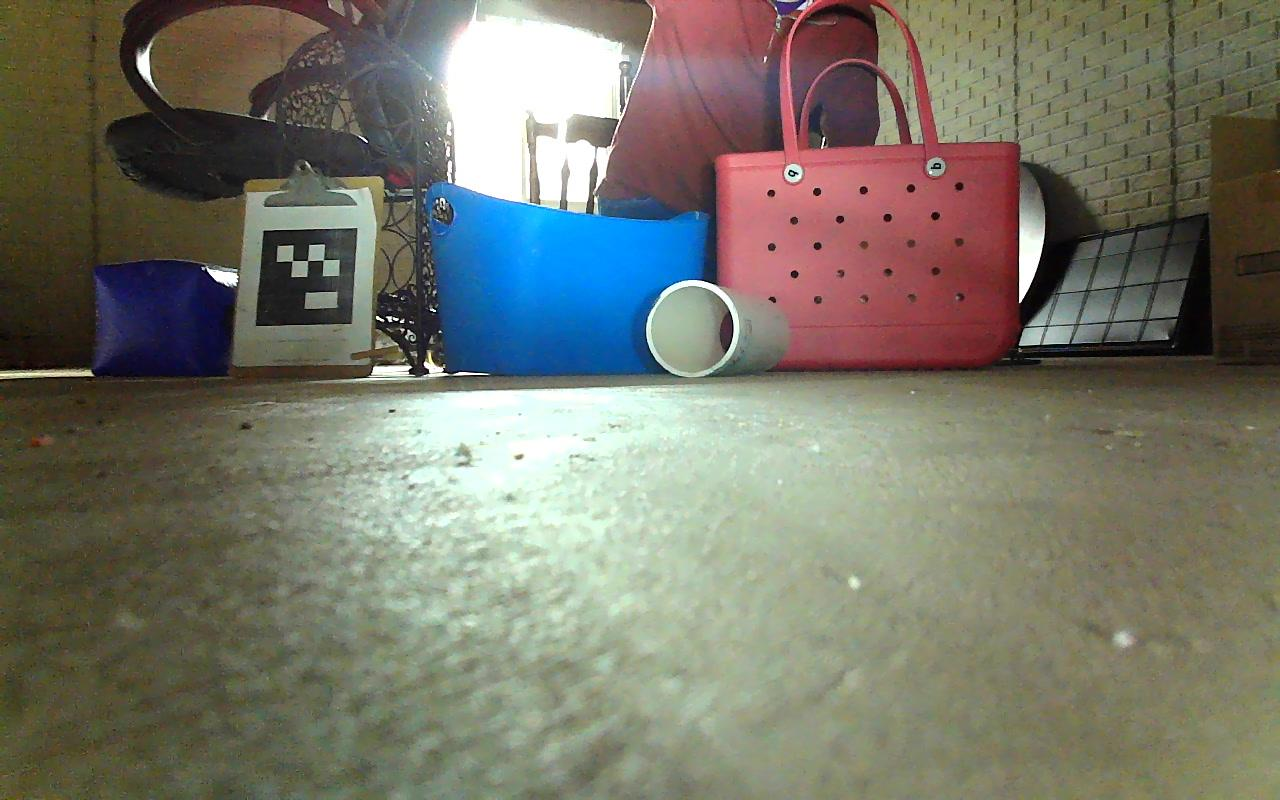coral: (647, 279, 790, 377)
